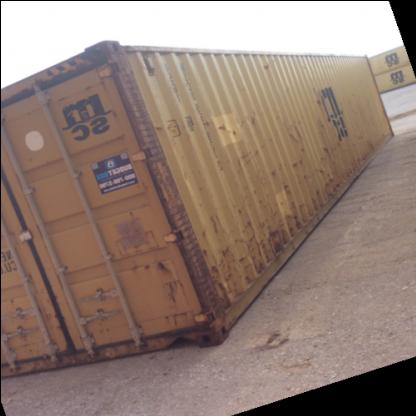Damage: (195, 206, 293, 314), (114, 206, 167, 252), (155, 257, 189, 324), (110, 44, 142, 98), (198, 108, 238, 138), (316, 162, 344, 196), (296, 196, 322, 224), (286, 118, 308, 150), (235, 141, 263, 164), (352, 125, 376, 149), (319, 140, 345, 158), (127, 254, 152, 272), (312, 86, 328, 108), (50, 92, 70, 108), (268, 156, 284, 174), (280, 175, 296, 193), (258, 54, 274, 72), (245, 110, 261, 127), (108, 102, 120, 124), (78, 80, 94, 95), (312, 115, 330, 128), (154, 116, 166, 130), (196, 176, 206, 192), (289, 154, 303, 164)
